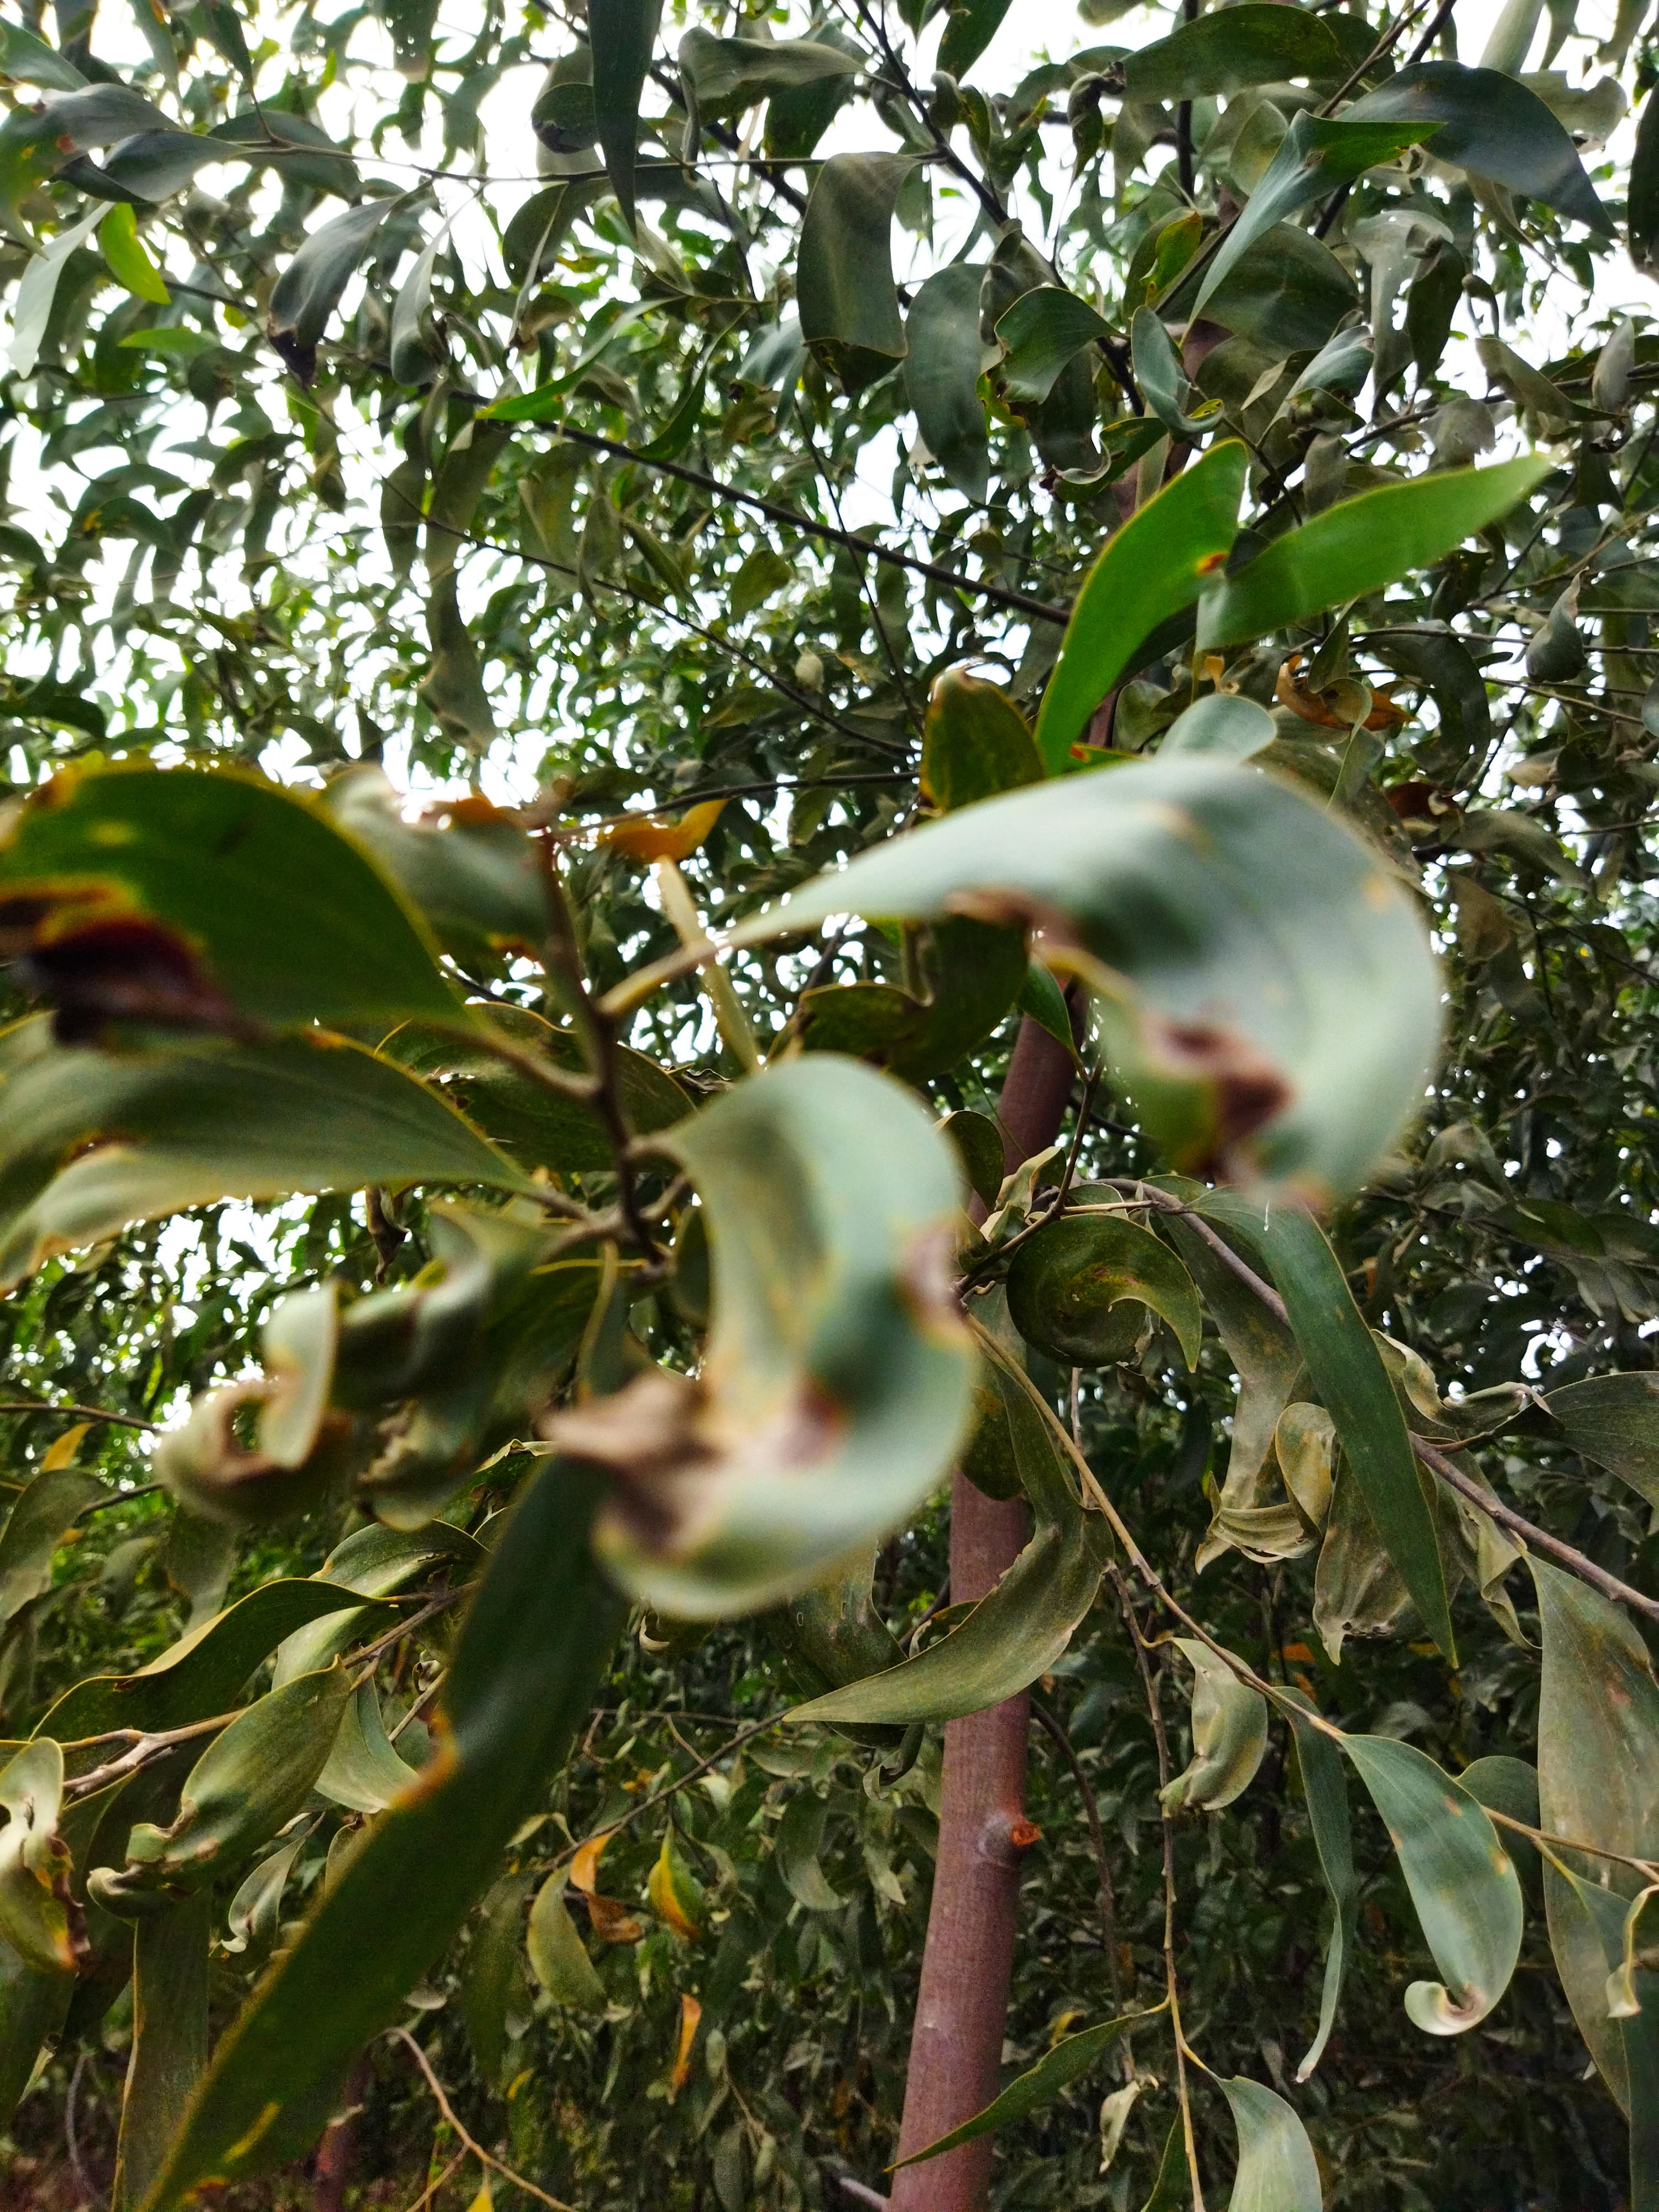Pasalora: (582, 1096, 960, 1700), (936, 808, 1483, 1181)
